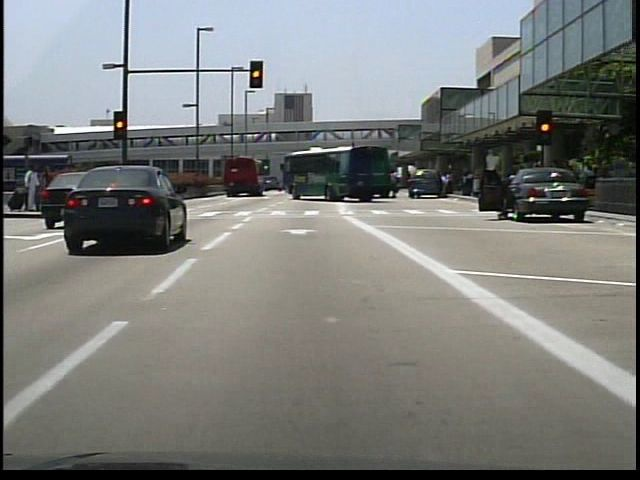person: (23, 163, 39, 213), (438, 169, 450, 197)
